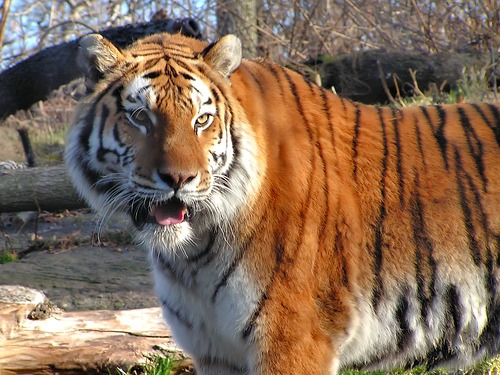Tigre: (56, 21, 483, 337)
